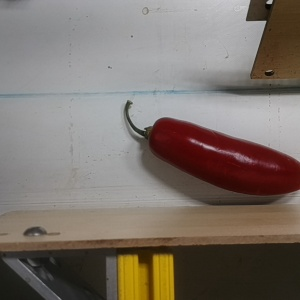Cut Point: (135, 114, 175, 156)
